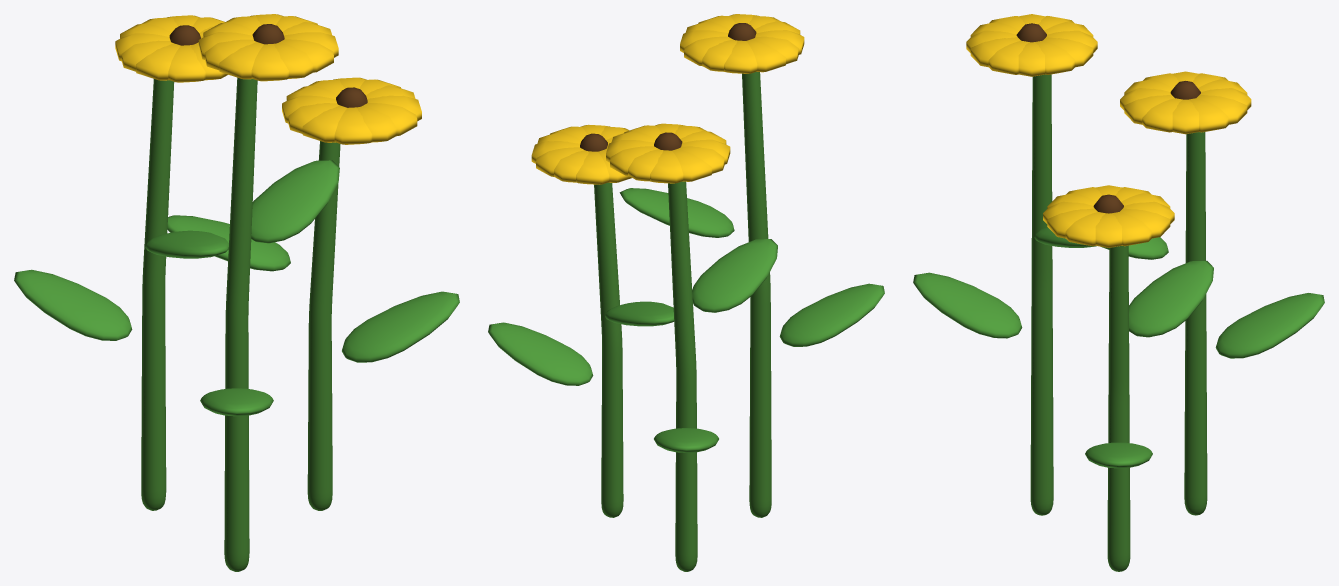
Rendered from sunflowers.glb.
3 views of the same model, side by side, from view 1: azimuth 30°, elevation 25°; view 2: azimuth 150°, elevation 25°; view 3: azimuth 270°, elevation 25° (orthographic). The views are drawn at different scales.
Parts seen in each view (by area): view 1: trunk_2, trunk_1, trunk_0, blossom_0, blossom_2, blossom_1, leaf_2_1, leaf_0_0, leaf_1_0, leaf_0_1, leaf_1_1, leaf_2_0; view 2: trunk_2, trunk_1, trunk_0, blossom_1, blossom_2, leaf_1_1, blossom_0, leaf_0_0, leaf_2_0, leaf_2_1, leaf_0_1, leaf_1_0; view 3: trunk_2, trunk_1, trunk_0, blossom_1, blossom_0, blossom_2, leaf_0_1, leaf_2_0, leaf_1_0, leaf_0_0, leaf_1_1, leaf_2_1.
Boxes of the visible parts, bbox=[...] form: trunk_2: bbox=[224, 77, 257, 571]; trunk_1: bbox=[141, 79, 174, 510]; trunk_0: bbox=[307, 141, 340, 510]; blossom_0: bbox=[282, 77, 421, 144]; blossom_2: bbox=[198, 14, 338, 81]; blossom_1: bbox=[115, 15, 227, 82]; leaf_2_1: bbox=[251, 160, 339, 243]; leaf_0_0: bbox=[342, 291, 459, 362]; leaf_1_0: bbox=[14, 269, 132, 340]; leaf_0_1: bbox=[167, 215, 290, 271]; leaf_1_1: bbox=[145, 230, 228, 258]; leaf_2_0: bbox=[200, 388, 273, 416]; trunk_2: bbox=[742, 72, 771, 517]; trunk_1: bbox=[668, 181, 697, 571]; trunk_0: bbox=[594, 182, 623, 517]; blossom_1: bbox=[606, 123, 730, 183]; blossom_2: bbox=[680, 14, 804, 73]; leaf_1_1: bbox=[692, 239, 777, 312]; blossom_0: bbox=[531, 124, 631, 184]; leaf_0_0: bbox=[488, 322, 593, 385]; leaf_2_0: bbox=[779, 283, 884, 346]; leaf_2_1: bbox=[619, 188, 734, 237]; leaf_0_1: bbox=[605, 301, 674, 326]; leaf_1_0: bbox=[654, 428, 718, 452]; trunk_2: bbox=[1030, 74, 1053, 515]; trunk_1: bbox=[1184, 132, 1207, 515]; trunk_0: bbox=[1107, 245, 1130, 571]; blossom_1: bbox=[1120, 71, 1251, 134]; blossom_0: bbox=[1043, 185, 1174, 247]; blossom_2: bbox=[966, 14, 1097, 76]; leaf_0_1: bbox=[1129, 260, 1213, 337]; leaf_2_0: bbox=[913, 272, 1022, 338]; leaf_1_0: bbox=[1215, 293, 1324, 358]; leaf_0_0: bbox=[1085, 442, 1152, 468]; leaf_1_1: bbox=[1101, 237, 1168, 259]; leaf_2_1: bbox=[1034, 227, 1096, 247].
Size of the model in its own units: 1.43 by 2.18 by 1.62.
